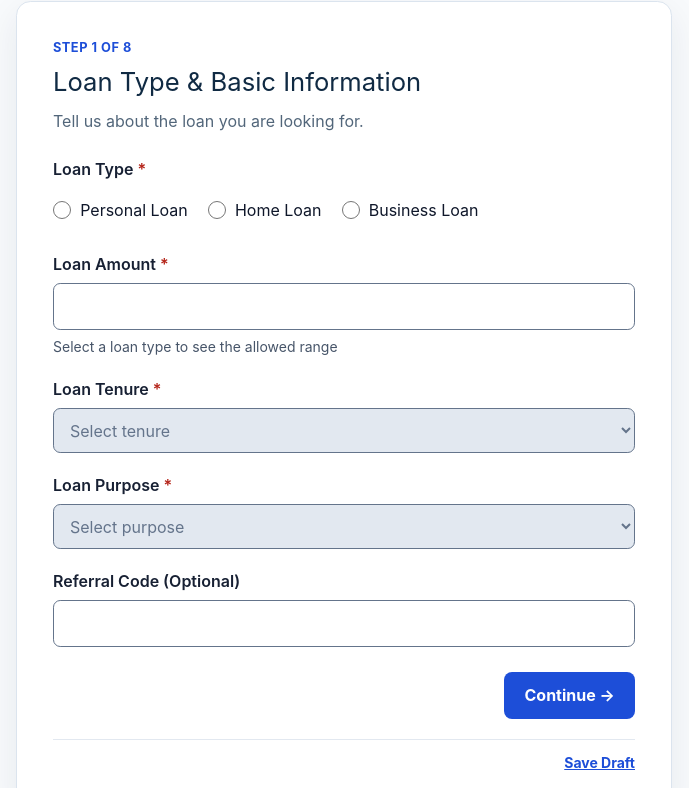
Test: Day 3 loan application › requires a loan type and focuses it on continue
The width and height of the screenshot is (689, 788).
(page scrolled)
Click the button "Continue →".
click(570, 695)  # box [504,672,635,719]
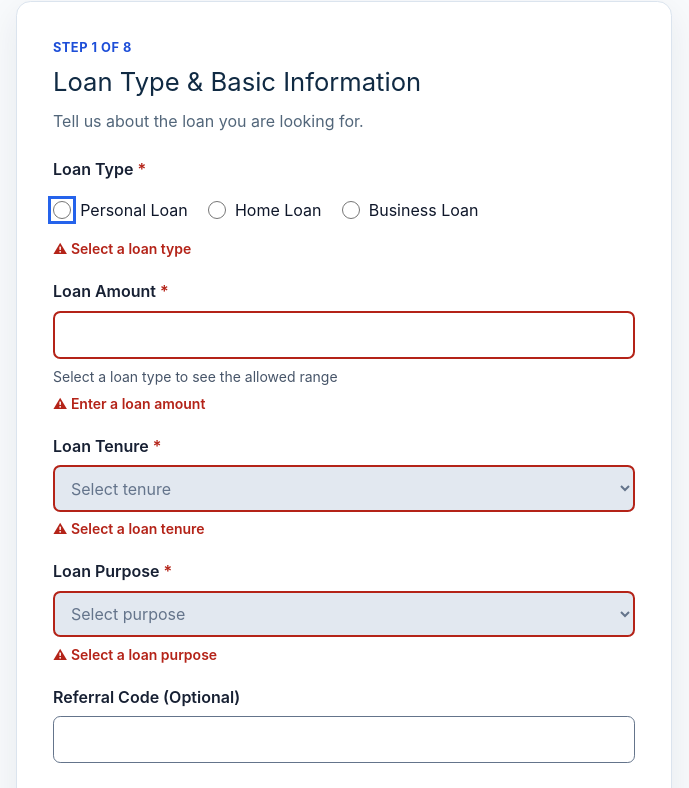
Expected: the text "Select a loan type" is shown, [71,240,191,257]
